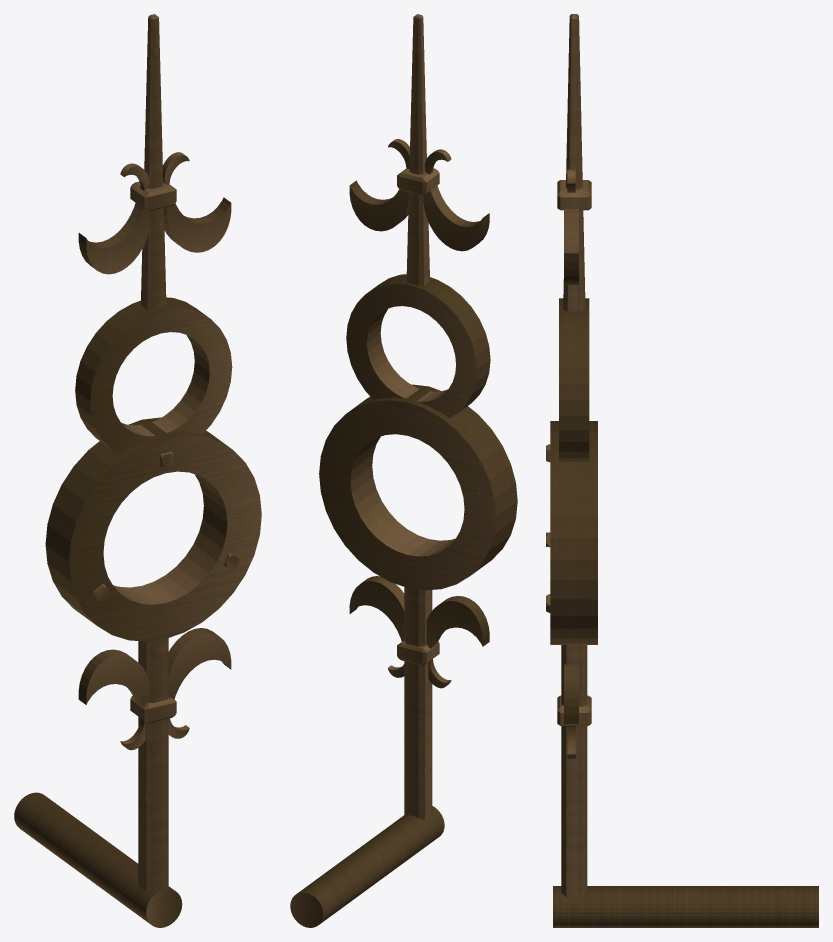
The model's file is hand_004.glb.
3 renders of one model, left to right at view 1: azimuth 30°, elevation 25°; view 2: azimuth 150°, elevation 25°; view 3: azimuth 270°, elevation 25°, orthographic. The views are drawn at different scales.
Visible parts, largest first — view 1: 4.axle; view 2: 4.axle; view 3: 4.axle.
Part boxes in pixels (<box>): 4.axle: <box>14,14,261,927</box>; 4.axle: <box>290,14,517,927</box>; 4.axle: <box>546,14,818,927</box>.
Bounding box in the file's own units: 0.0854 × 0.3829 × 0.104.
Materials: 1 (1 with a texture image).
